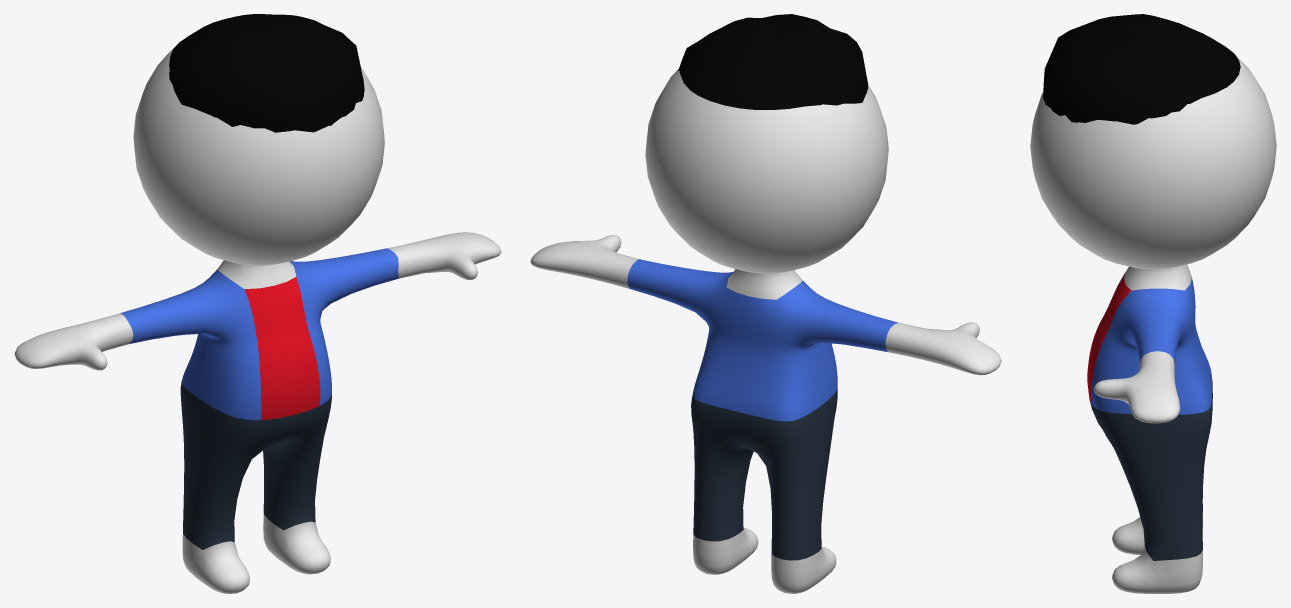
File: boy2.fbx
3 views of the same model, side by side, from view 1: azimuth 30°, elevation 25°; view 2: azimuth 150°, elevation 25°; view 3: azimuth 270°, elevation 25° (orthographic). The views are drawn at different scales.
Parts seen in each view (by area): view 1: Cube, Sphere, Sphere.001; view 2: Cube, Sphere, Sphere.001; view 3: Sphere, Cube, Sphere.001.
Boxes of the visible parts, x1,y1,x2,y2 form: Cube: (14,232,501,593); Sphere: (133,45,384,265); Sphere.001: (169,14,364,132); Cube: (530,235,1001,593); Sphere: (645,69,888,273); Sphere.001: (678,14,868,109); Sphere: (1030,54,1276,269); Cube: (1087,264,1212,593); Sphere.001: (1043,14,1240,124).
Bounding box in the file's own units: 746 × 825 × 341.
